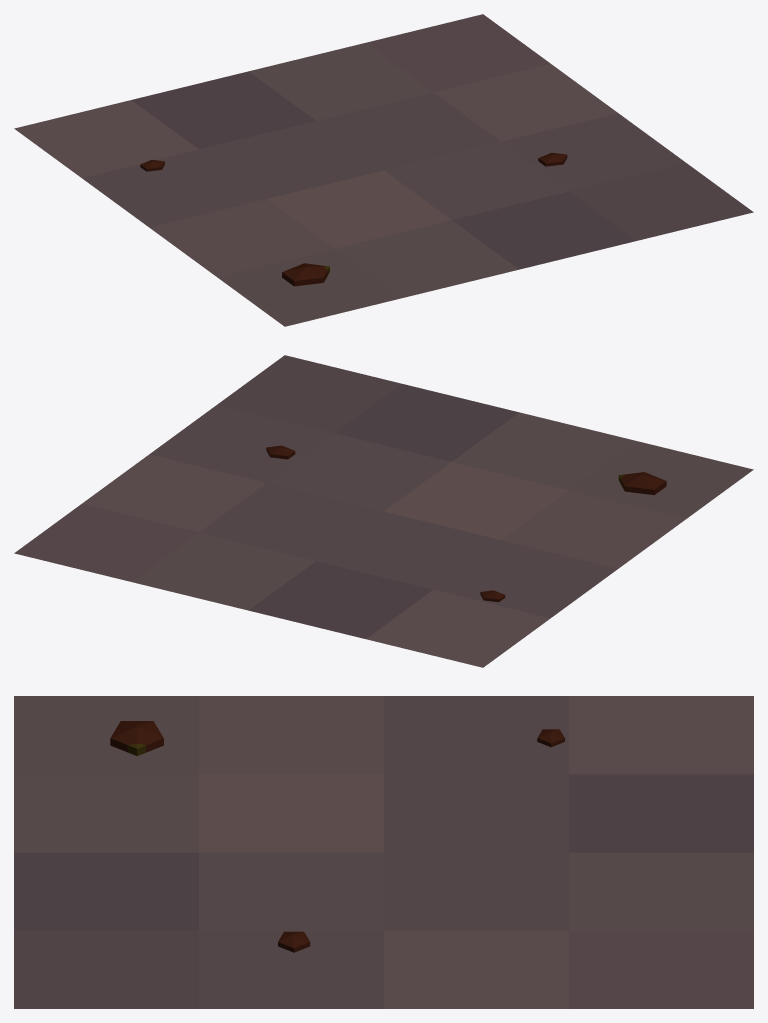
Rendered from forge_floor.glb.
3 renders of one model, top to bottom at view 1: azimuth 30°, elevation 25°; view 2: azimuth 150°, elevation 25°; view 3: azimuth 270°, elevation 25°, orthographic. The views are drawn at different scales.
Parts seen in each view (by area): view 1: forge_floor; view 2: forge_floor; view 3: forge_floor.
Part boxes in pixels (left/top/right/bottom): forge_floor: left=14, top=14, right=753, bottom=326; forge_floor: left=14, top=355, right=753, bottom=667; forge_floor: left=14, top=696, right=753, bottom=1008.
Bounding box in the file's own units: 2 × 0.0876 × 2.
Materials: 2 (1 with a texture image).
